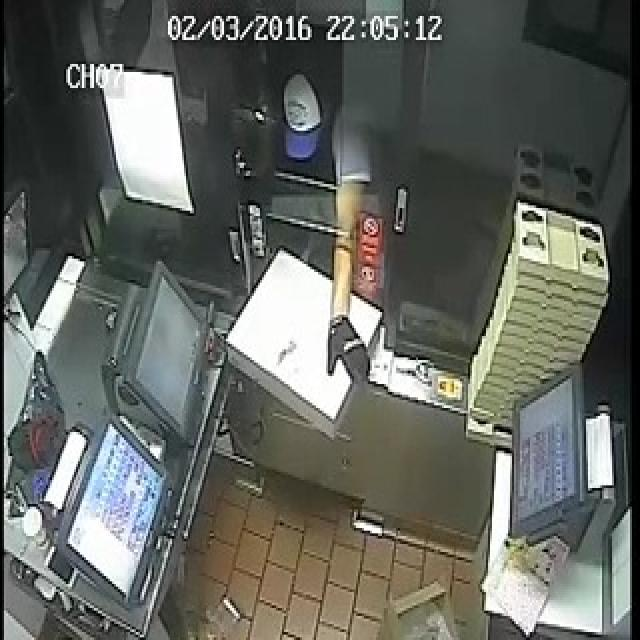thief: (256, 62, 373, 210)
